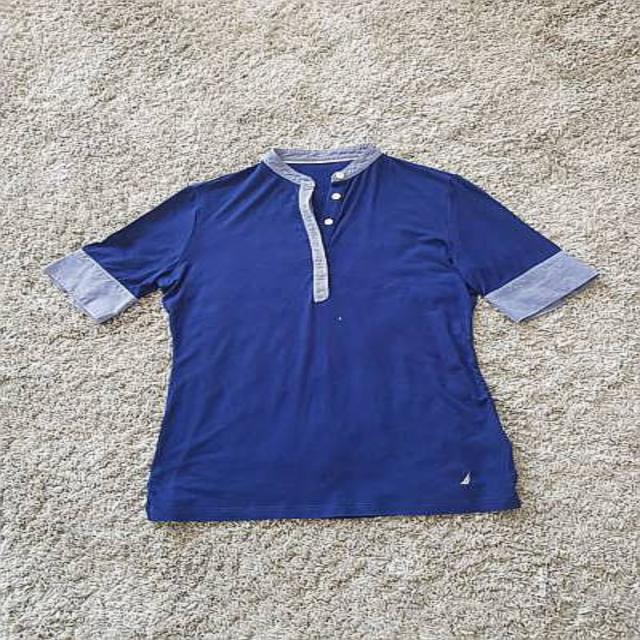T_SHIRT: (43, 132, 602, 529)
